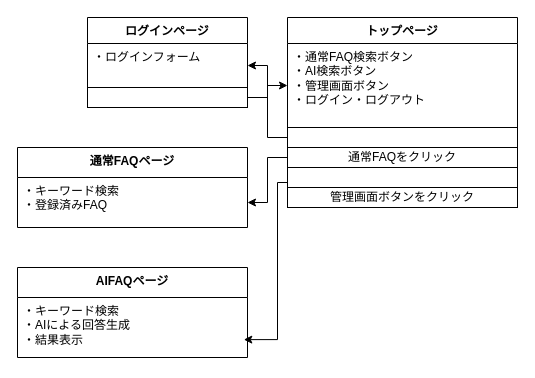
Some shapes in this 535 by 378 pixel diagram are drawn without their labels. The shapes that lost their labels are listed below. From the top down, each one's centre as x and y in pixels, then its label:
the point at 167,97: ログイン
the point at 402,137: ログインボタンをクリック
the point at 402,177: AI検索ボタンをクリック
